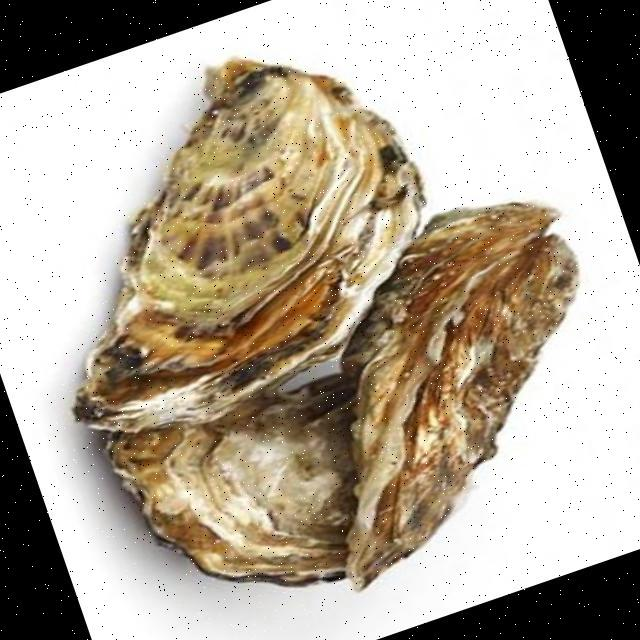Oyster-Closed: (75, 60, 424, 432), (342, 204, 578, 588), (110, 375, 356, 584)
